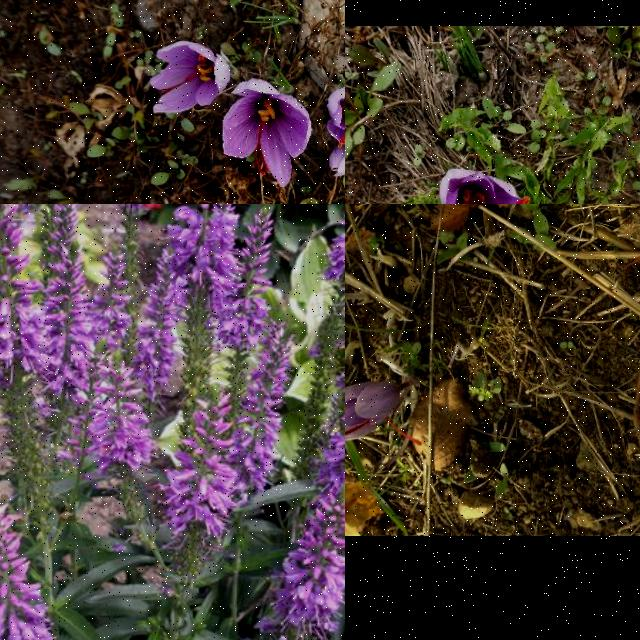flower: (221, 78, 313, 188), (148, 40, 232, 114), (345, 381, 423, 445), (439, 167, 531, 204), (326, 83, 345, 148)
